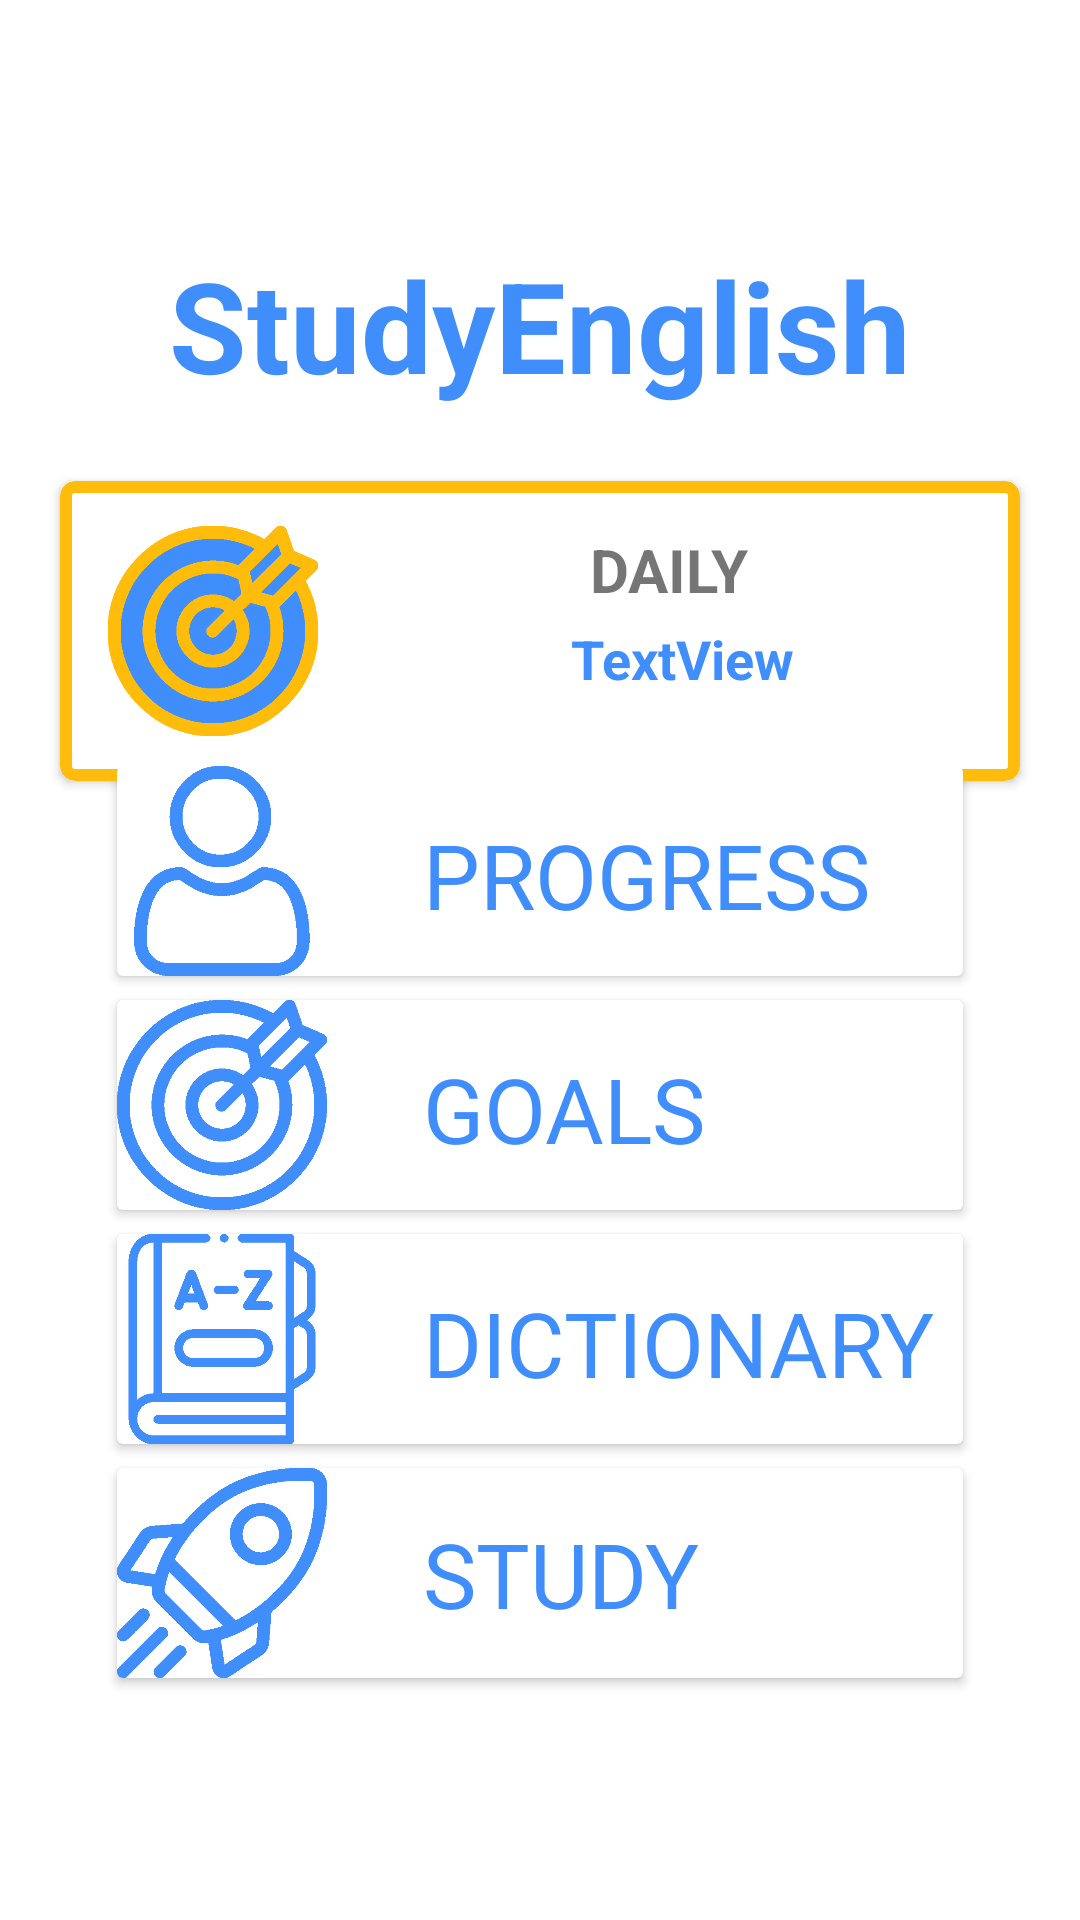

Where to tap for icons on this 1080*1920 app screen, as point (x, y):
shuttle: point (222, 1573)
user: point (213, 871)
